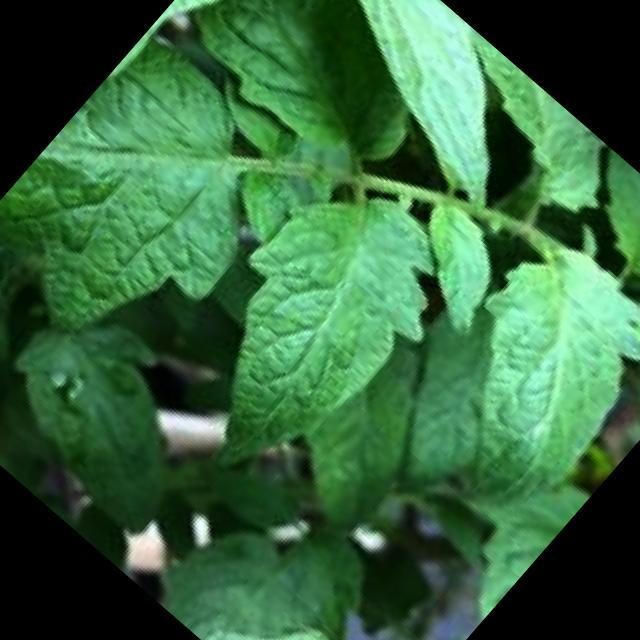Tomato healthy leaf: (0, 33, 308, 442), (130, 150, 478, 510), (369, 222, 640, 545), (246, 0, 570, 212), (163, 0, 447, 196), (380, 190, 532, 340), (562, 149, 640, 286)
